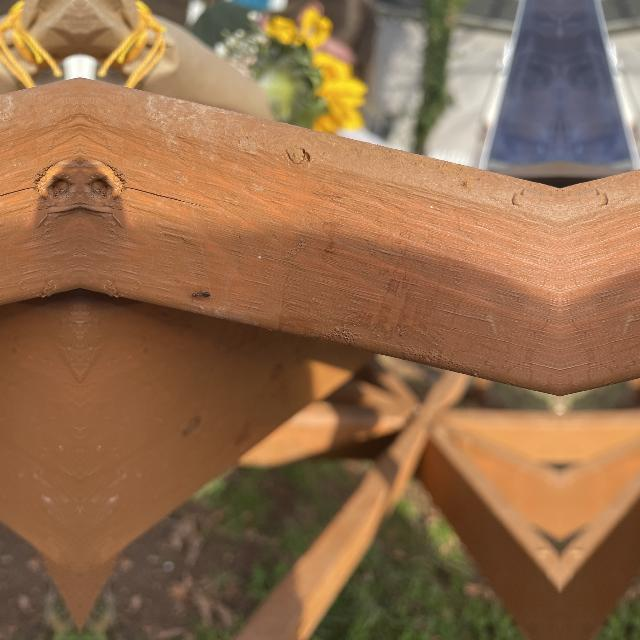Colobopsis: (189, 286, 211, 300)
